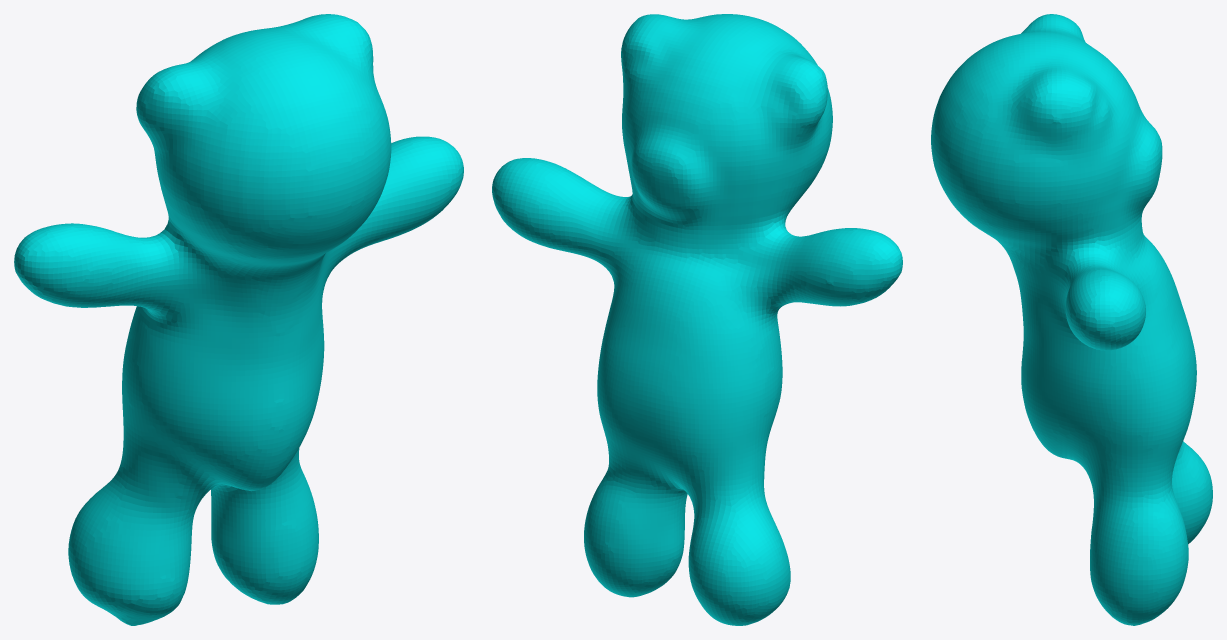
File: bear.glb
3 views of the same model, side by side, from view 1: azimuth 30°, elevation 25°; view 2: azimuth 150°, elevation 25°; view 3: azimuth 270°, elevation 25° (orthographic). The views are drawn at different scales.
Visible parts, largest first — view 1: Sphere; view 2: Sphere; view 3: Sphere.
Boxes of the visible parts, <box> form: Sphere: <box>14,14,463,625</box>; Sphere: <box>492,14,902,625</box>; Sphere: <box>931,14,1212,625</box>.
Size of the model in its own units: 6.69 by 8.79 by 4.04.
